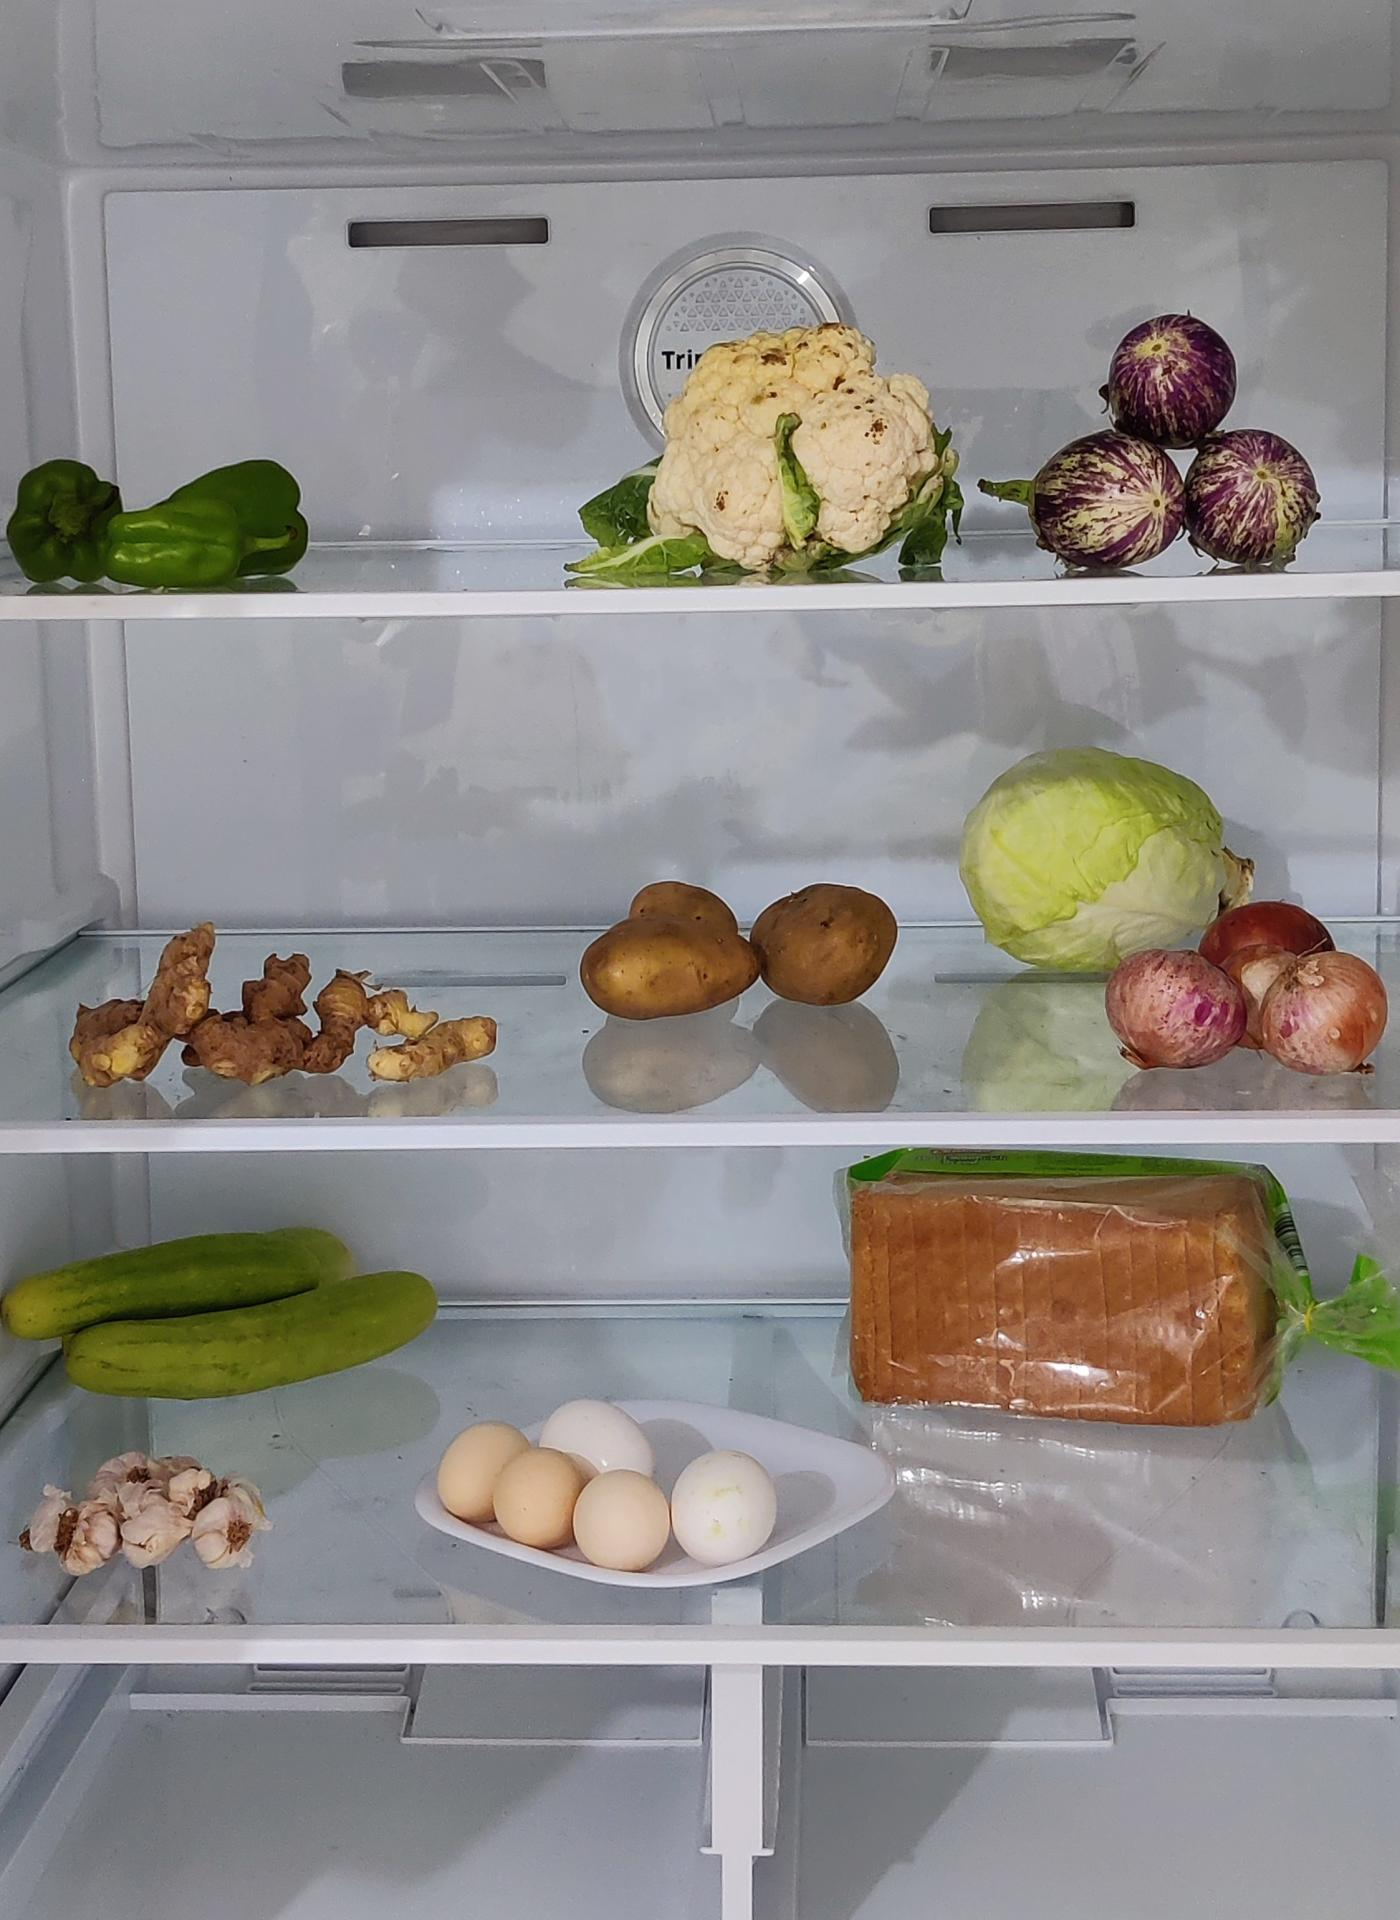bread: (830, 1158, 1302, 1444)
brinjal: (1021, 325, 1324, 572)
cabbage: (956, 748, 1251, 969)
capsicum: (7, 449, 321, 586)
cauliflower: (652, 322, 959, 568)
cucumber: (16, 1228, 446, 1398)
egg: (440, 1382, 780, 1562)
garlic: (18, 1447, 271, 1573)
ginger: (76, 911, 507, 1073), (188, 954, 491, 1088)
onion: (1126, 900, 1400, 1084)
potato: (578, 881, 901, 1024)
